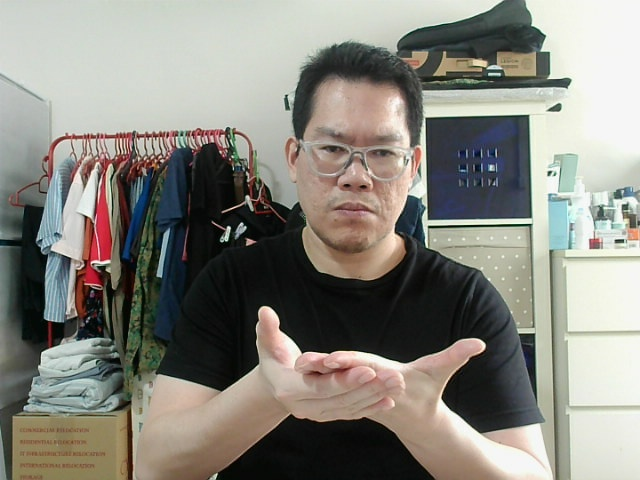good: (262, 316, 383, 421)
